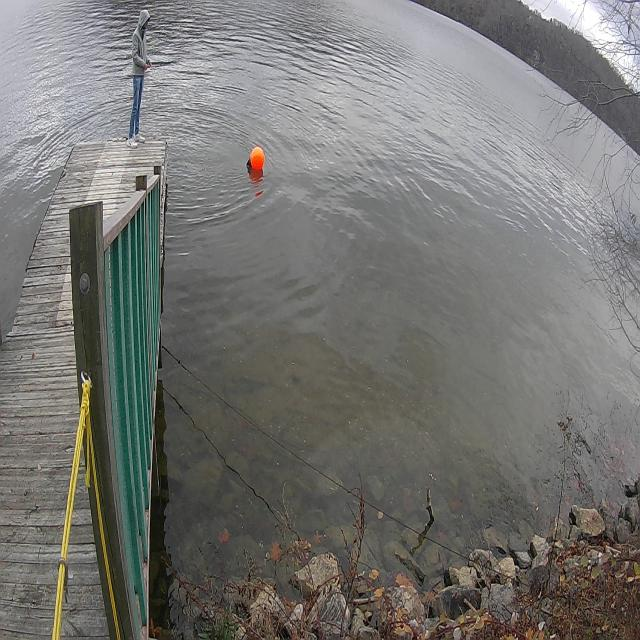Buoy: (247, 142, 267, 182)
